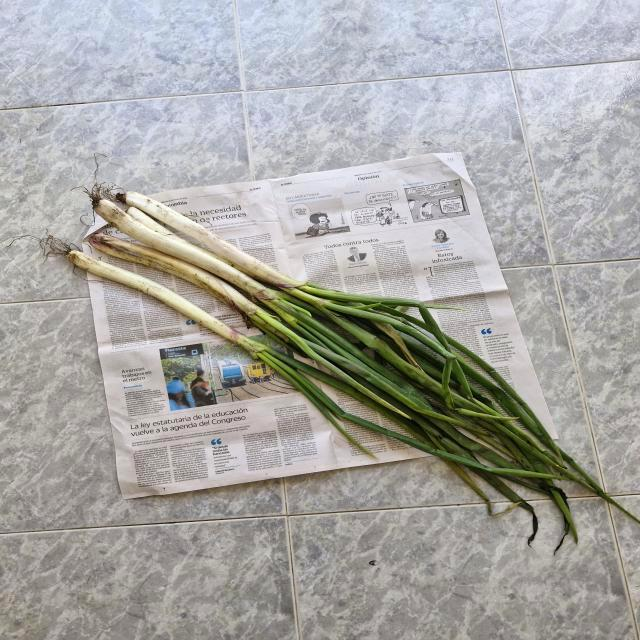green_onion: (91, 190, 490, 413), (56, 246, 372, 414)
